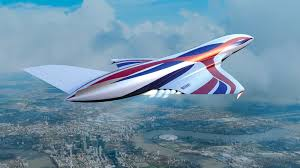maybay_dansu: (33, 31, 254, 109)
